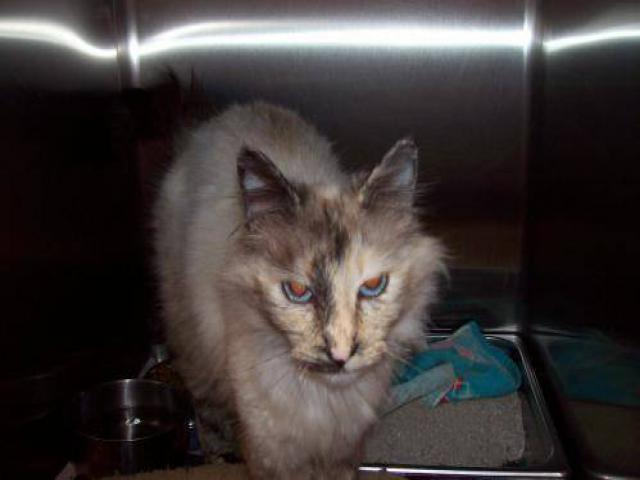cat: (144, 93, 451, 477)
